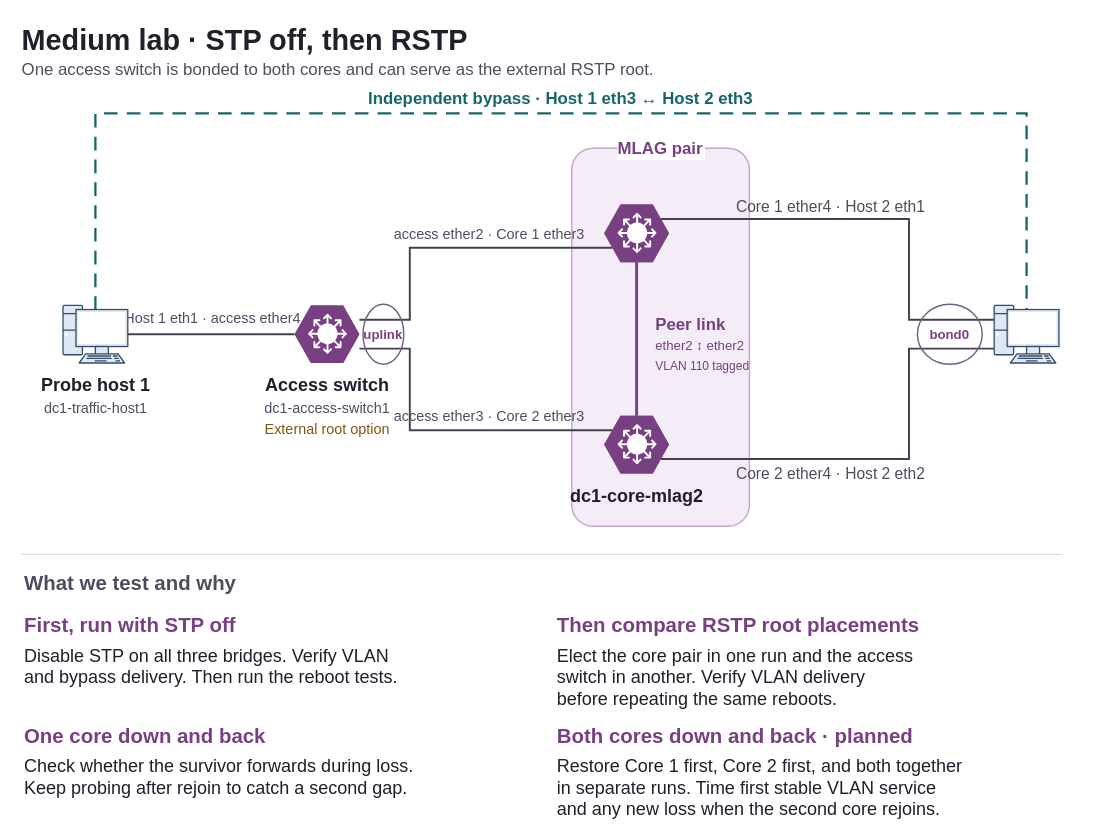
The diagram is 1102 pixels wide and 840 high, and some of its shapes have lost their labels. The box of each missing label's shape, as (x1, y1, x2, y2) in pixels:
dc1-core-mlag1: (603, 203, 669, 262)
Probe host 2 dc1-traffic-host2: (993, 304, 1059, 363)
